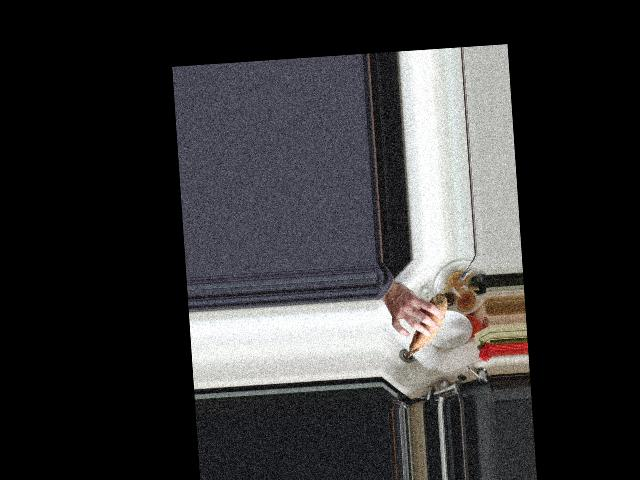sweet_potato: (402, 294, 451, 358)
